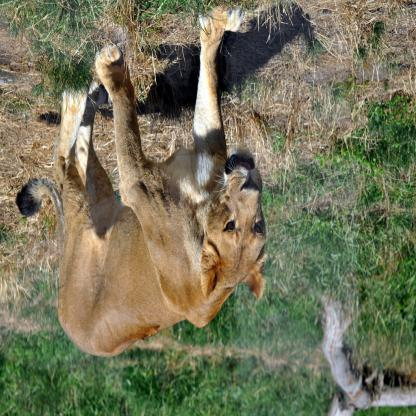lion: (197, 145, 268, 306)
